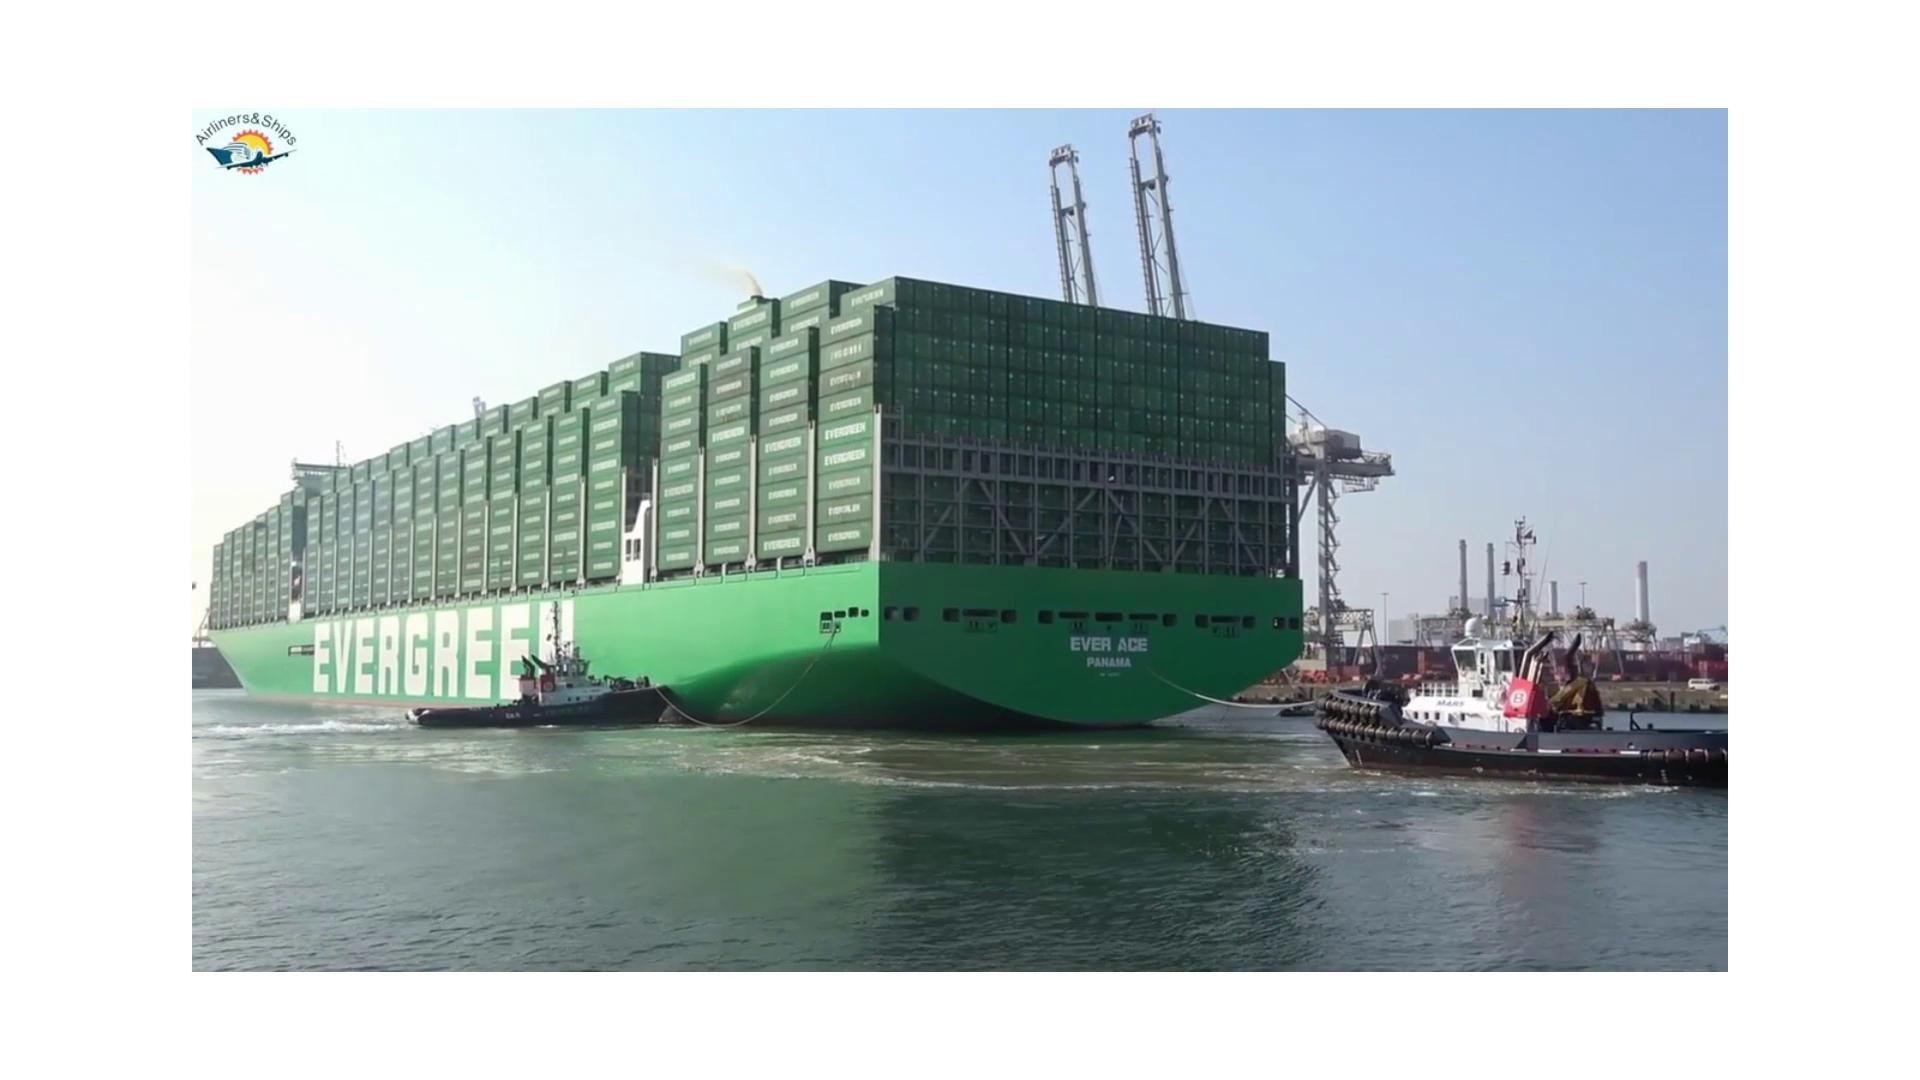OCR: (284, 592, 607, 723), (1064, 621, 1153, 695)
